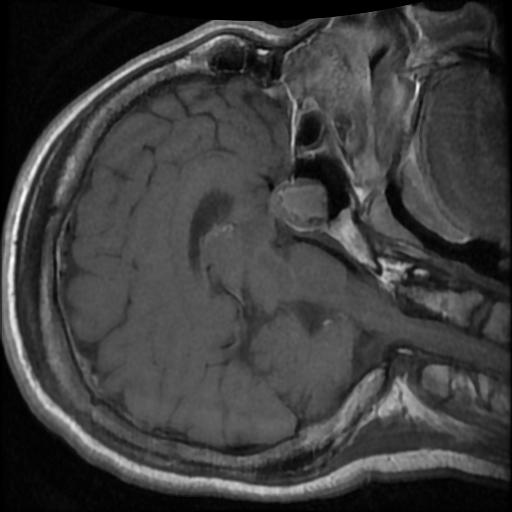pituitary tumour: (270, 175, 327, 231)
